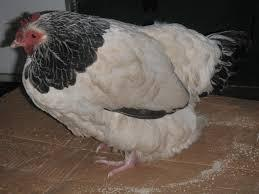AbNormal: (4, 9, 237, 175)
